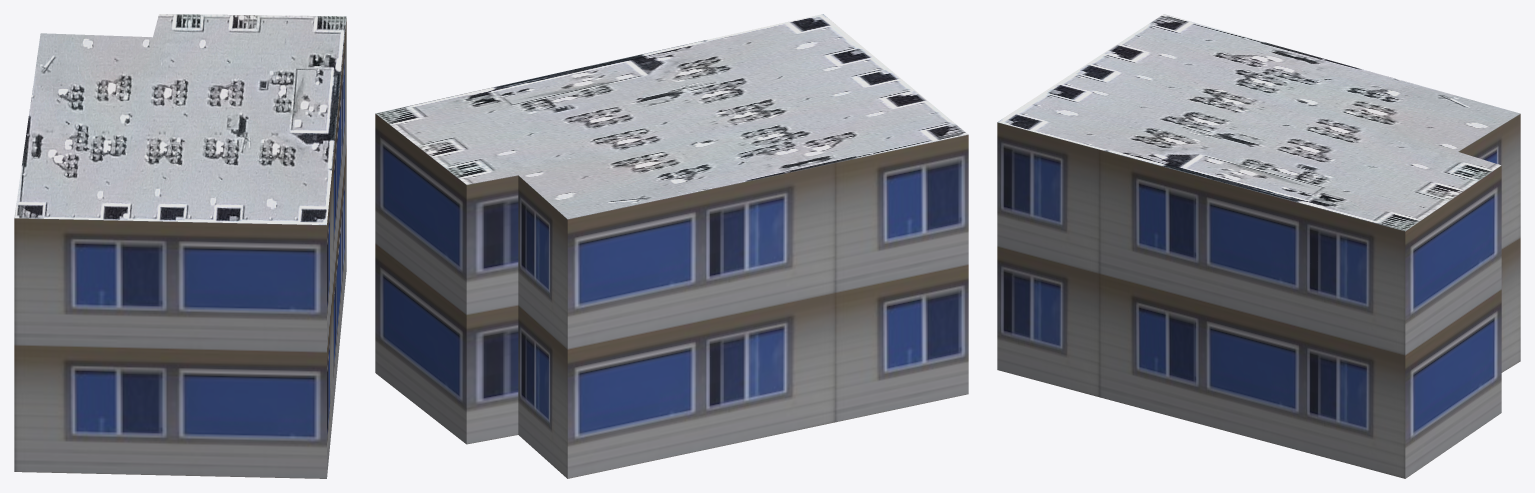
The model's file is ResTex__3869.fbx.
The picture shows the model from 3 angles, left to right: view 1: azimuth 30°, elevation 25°; view 2: azimuth 150°, elevation 25°; view 3: azimuth 270°, elevation 25°; orthographic projection. The views are drawn at different scales.
Parts seen in each view (by area): view 1: CityEngineMaterial_23_m, CityEngineMaterial_4_m; view 2: CityEngineMaterial_23_m, CityEngineMaterial_4_m; view 3: CityEngineMaterial_23_m, CityEngineMaterial_4_m.
Boxes of the visible parts, bbox=[...] form: CityEngineMaterial_23_m: bbox=[14, 18, 346, 478]; CityEngineMaterial_4_m: bbox=[14, 14, 346, 224]; CityEngineMaterial_23_m: bbox=[375, 113, 968, 478]; CityEngineMaterial_4_m: bbox=[375, 14, 967, 219]; CityEngineMaterial_23_m: bbox=[997, 114, 1520, 478]; CityEngineMaterial_4_m: bbox=[997, 14, 1520, 231].
Bounding box in the file's own units: 11.28 × 6 × 11.49.
2 materials, 2 textured.
